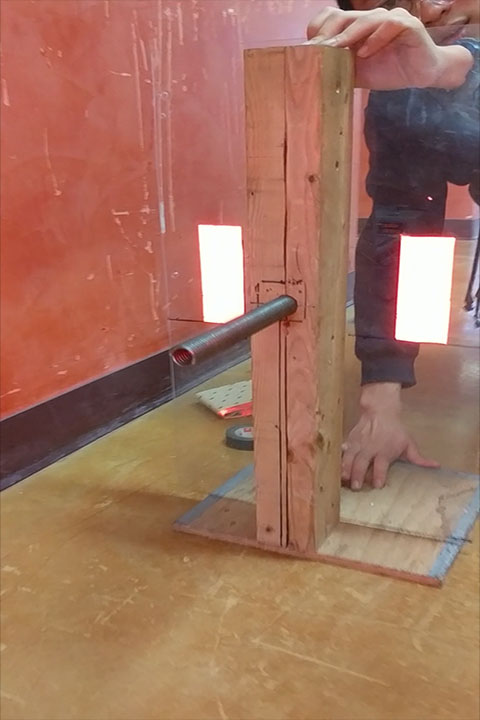gear: (394, 235, 456, 345), (198, 224, 244, 325)
